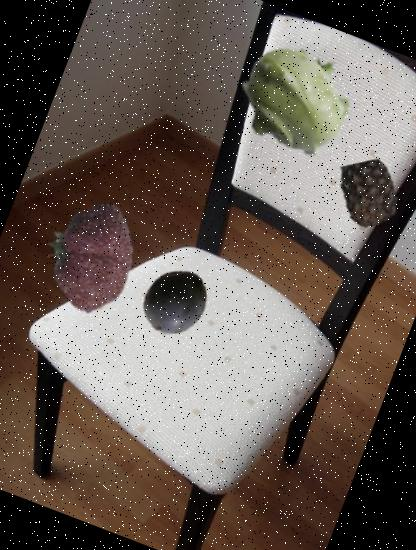Kohlrabi: (221, 26, 371, 176)
Pineapple: (326, 152, 411, 236)
Plum: (130, 257, 220, 347)
Strawberry: (20, 190, 160, 330)
